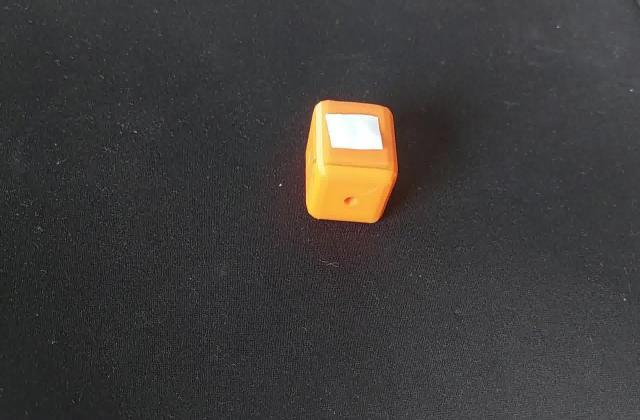sticker: (301, 94, 403, 229)
white: (323, 112, 386, 158)
